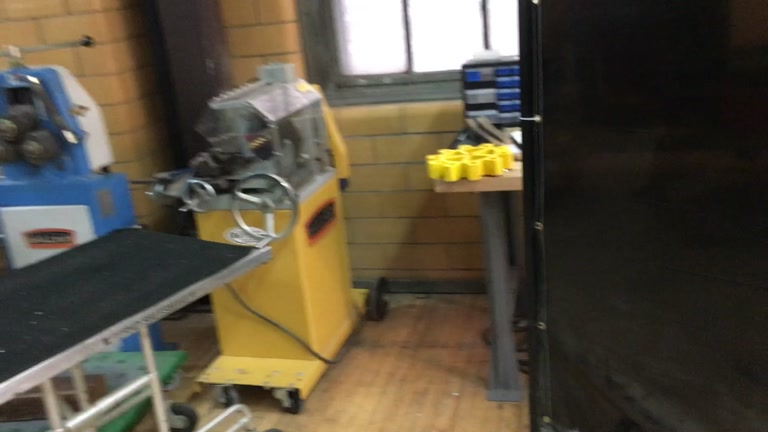gear: (426, 143, 515, 182)
